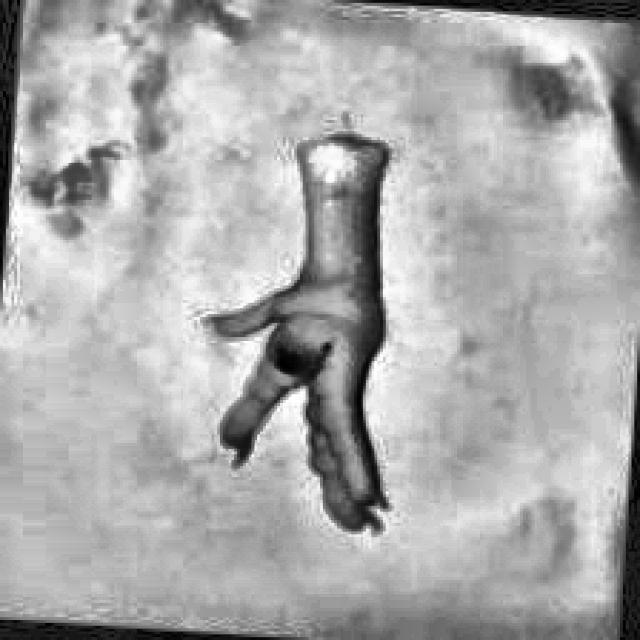Bumble foot: (200, 126, 394, 534)
